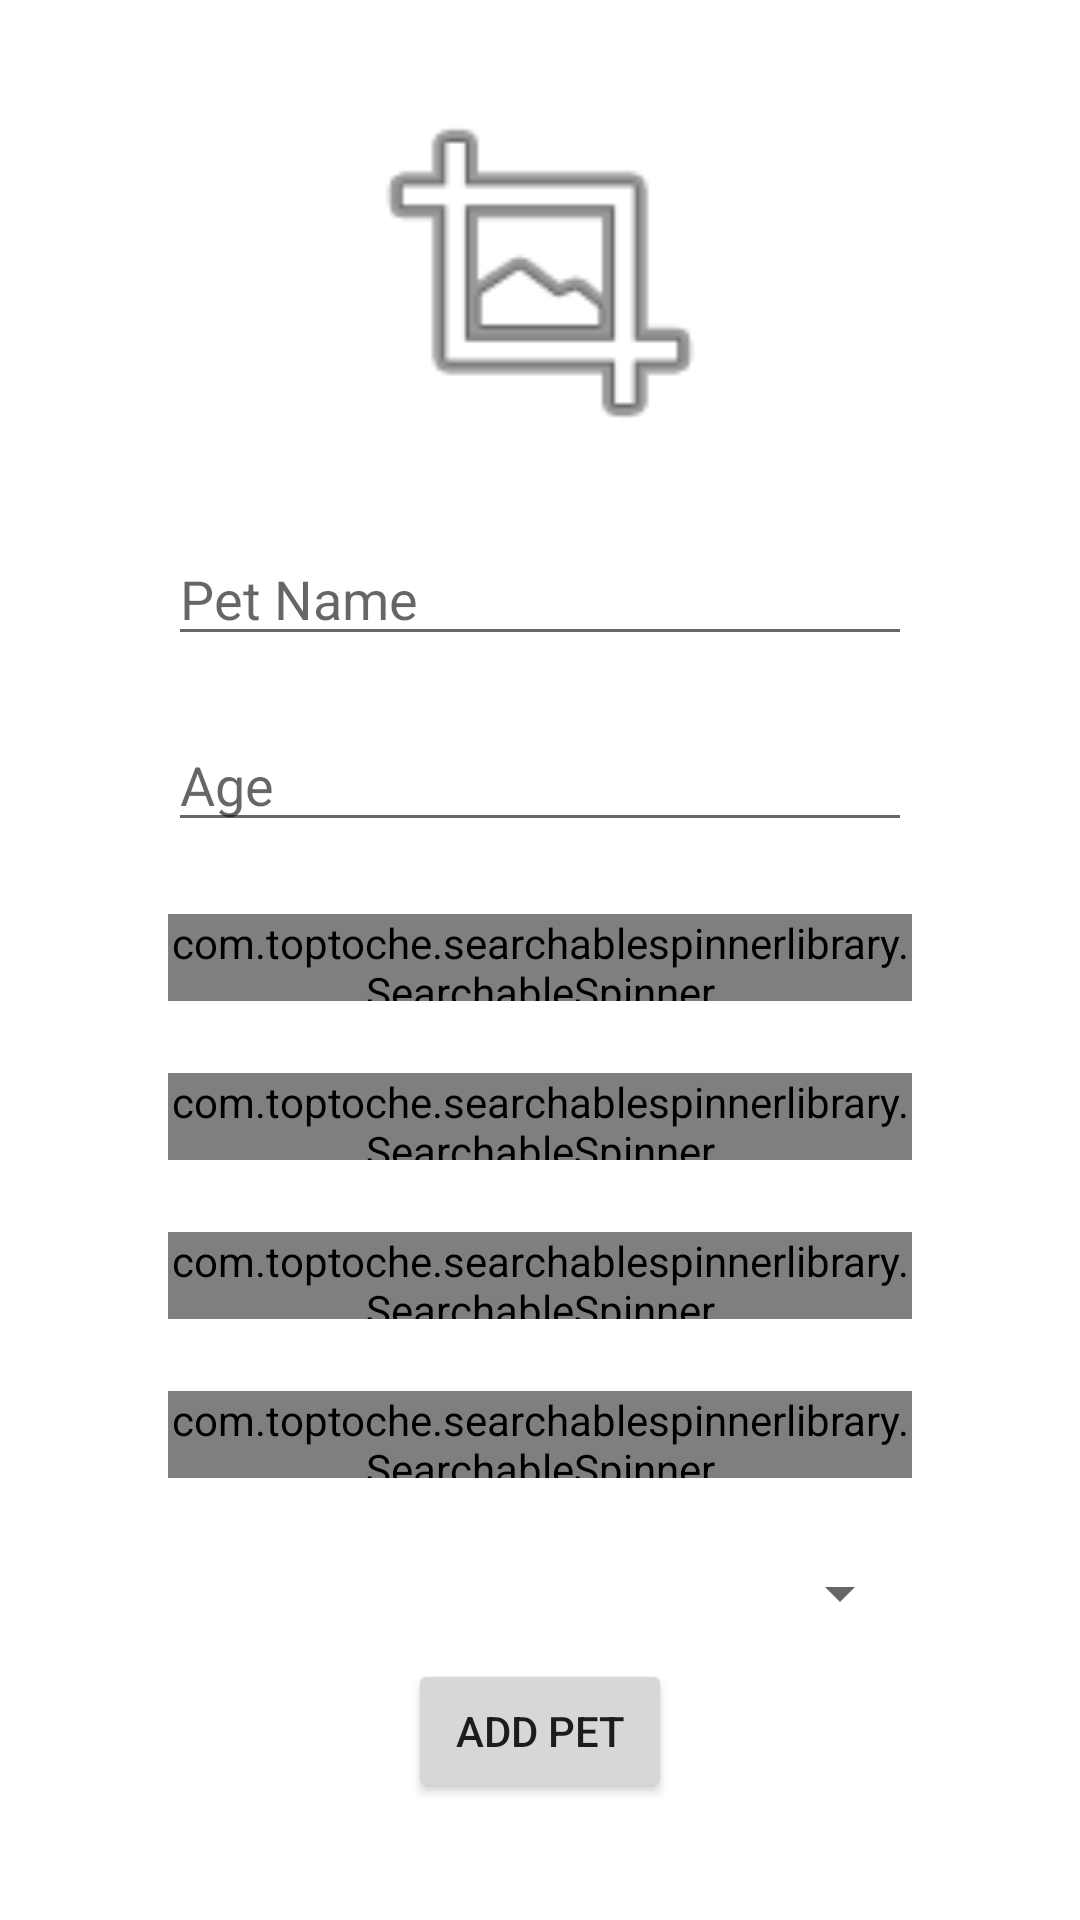

Icons on this 1080*1920 Android screen, each with its box as (x1, y1, x2, y2):
crop: (388, 129, 692, 417)
